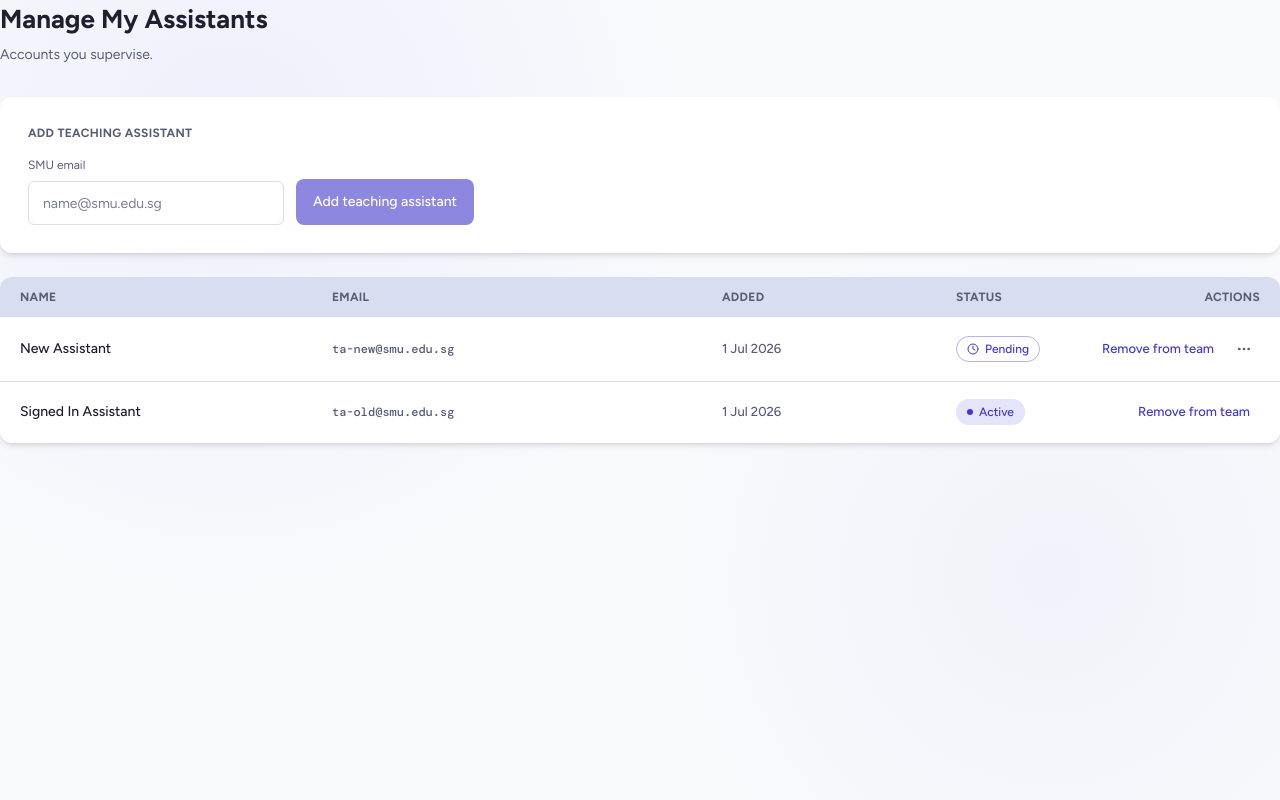
Test: TeachingAssistantsPage - adding and removing › shows the server's refusal under the email field
Type "someone@smu.edu.sg" into the field labelled "SMU email" at coordinates (156, 203), box [28,181,284,225]
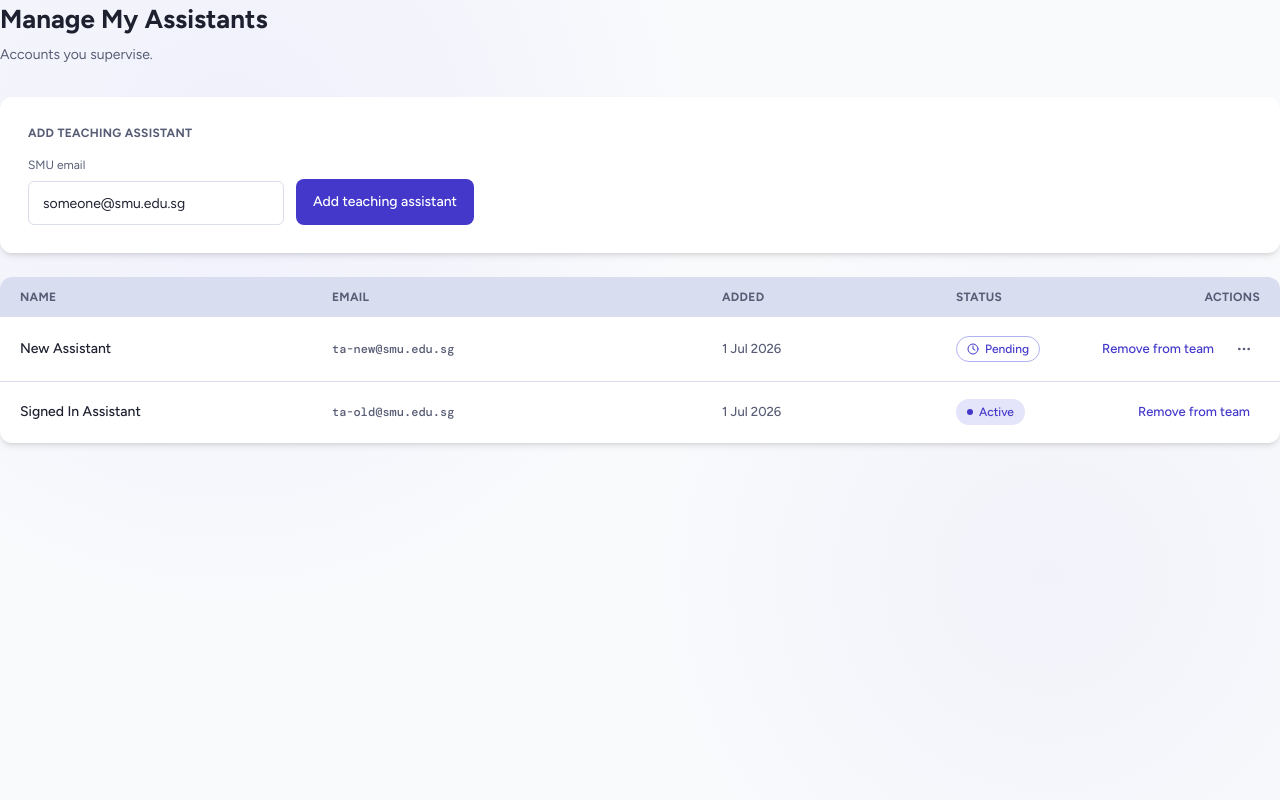
Click the button "Add teaching assistant" at coordinates (385, 202), box [296,179,474,225]
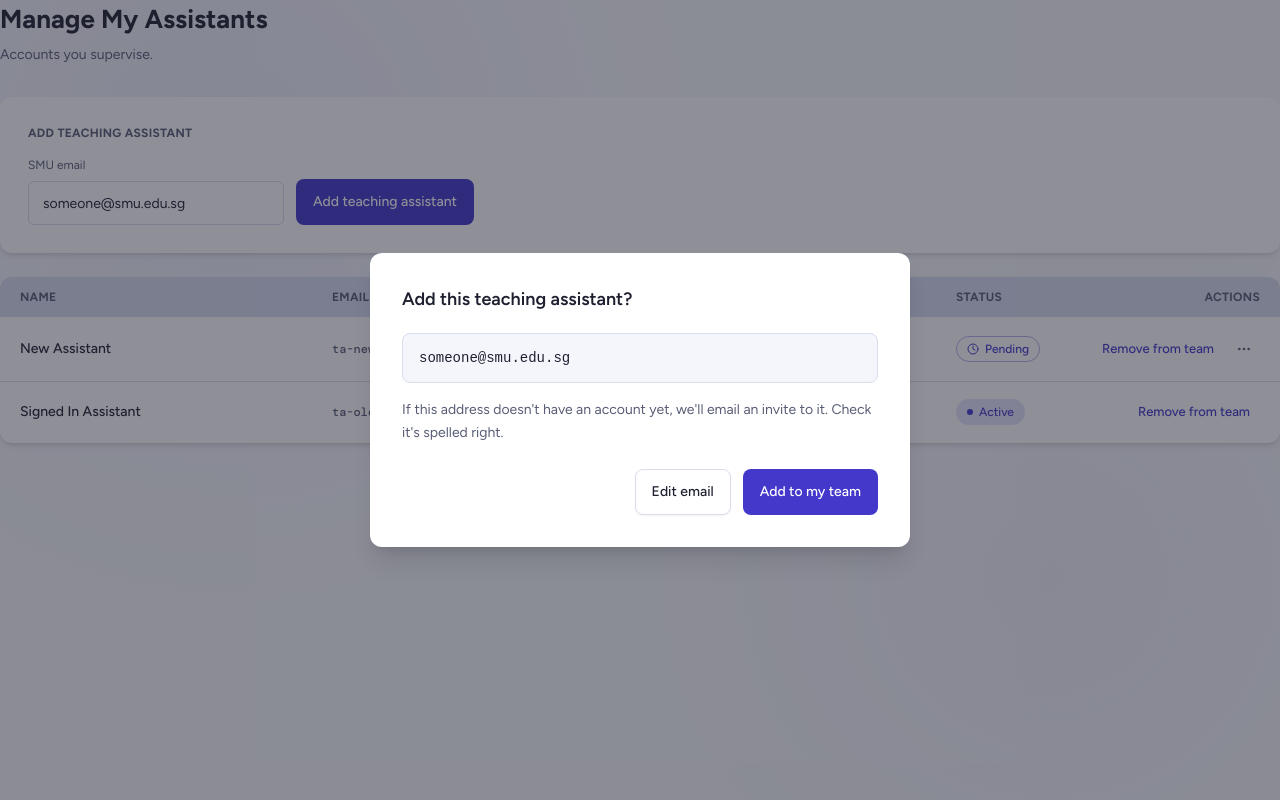
Click the button "Add to my team" at coordinates (810, 492), box [743,469,878,515]
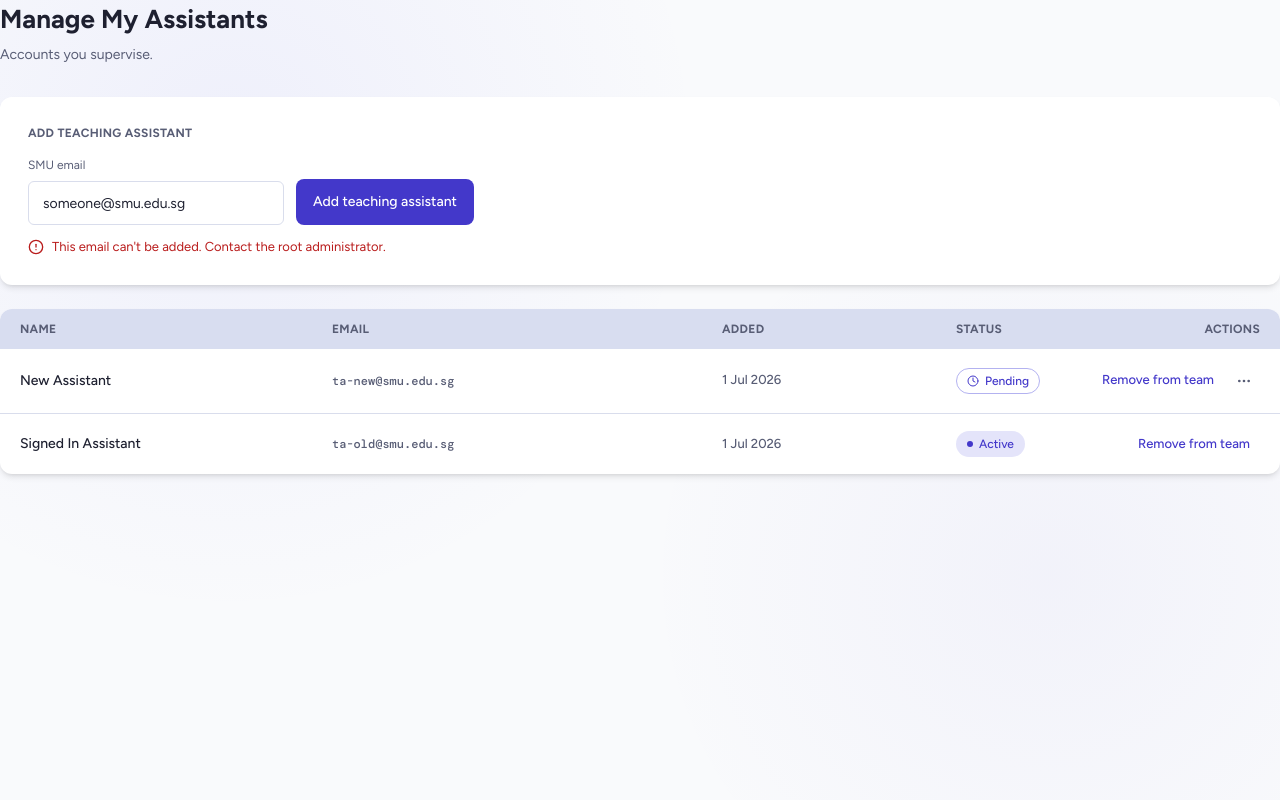
Check: the message reads "This email can't be added. Contact the root administrator.", box [52,239,386,254]
